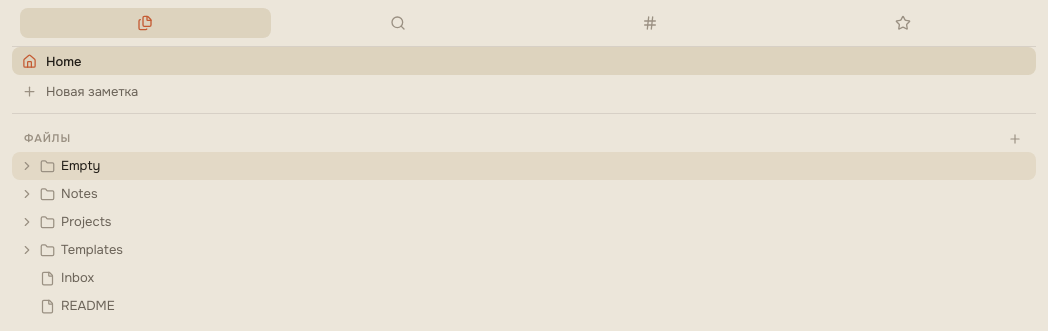
Test: Sidebar (Ф0-7 / DP-2) › ввод текста при активном теге → выход в обычный поиск ДРУГОЙ заметки (без stale-лика)
The image size is (1048, 331).
Click the tab named "Теги": (650, 23) [525,8,776,38]
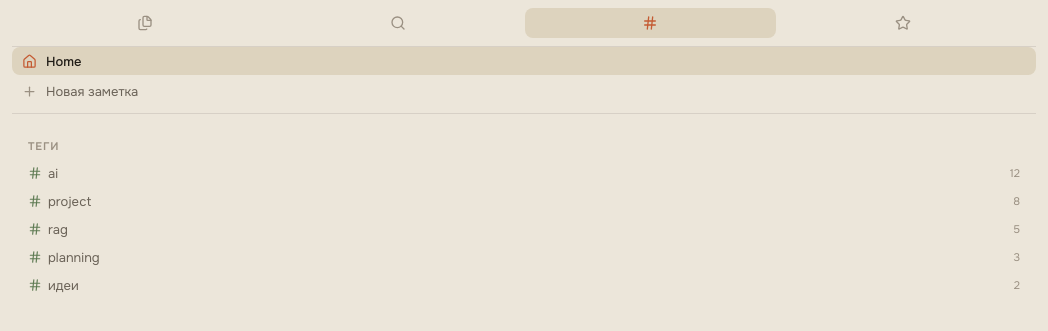
Click the button "planning 3": (74, 257) [16,243,1032,271]
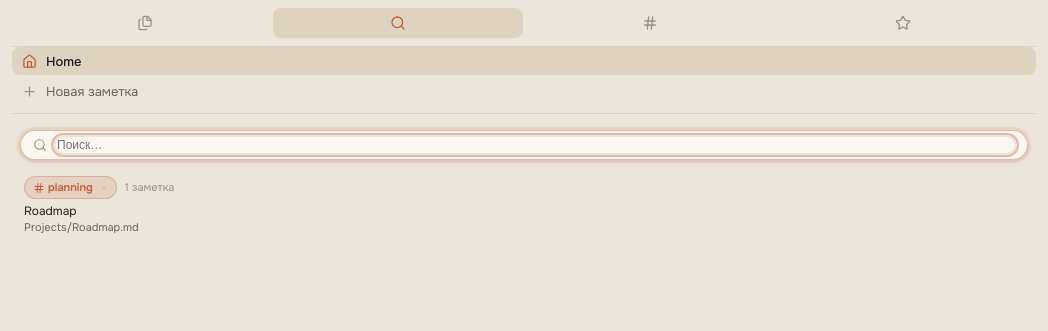
Expected: the text "Projects/Roadmap.md" is shown, [24,220,139,234]
// Печатаем запрос ДРУГОЙ заметки (Idea НЕ в #planning) — дискриминирует текст-путь от stale тега.
In the field with placeholder "Поиск…": (535, 145) [55,137,1015,153], type "Idea"
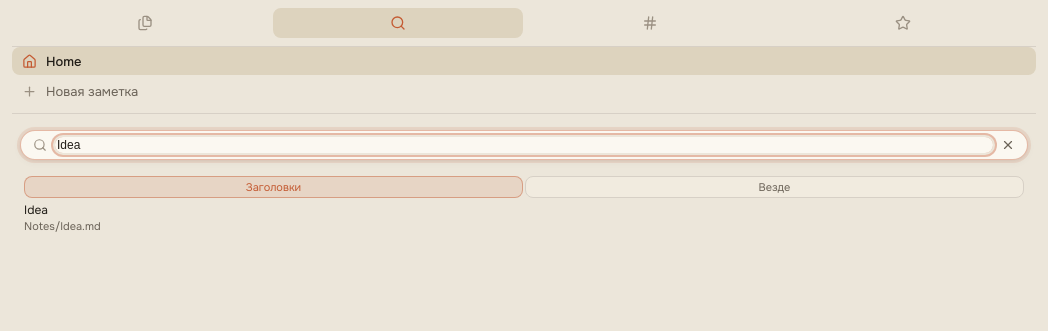
Expected: the text "Notes/Idea.md" is shown, [24,219,101,233]
Expected: the button "Projects/Roadmap.md" is gone
